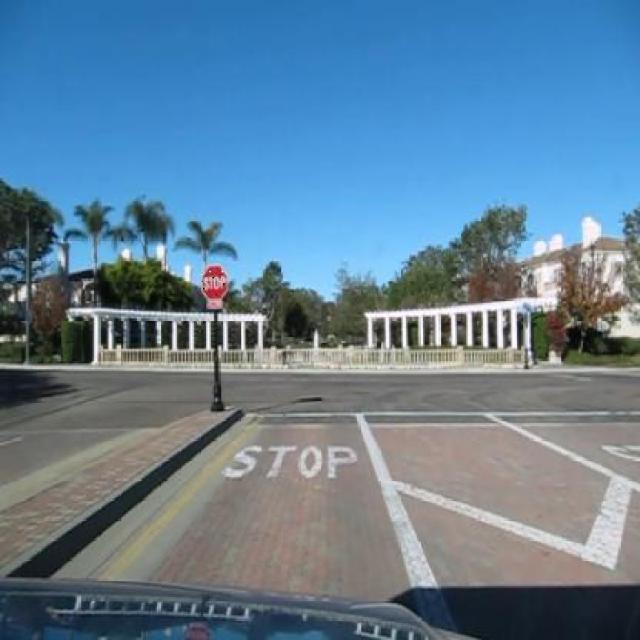stop: (200, 263, 228, 300)
